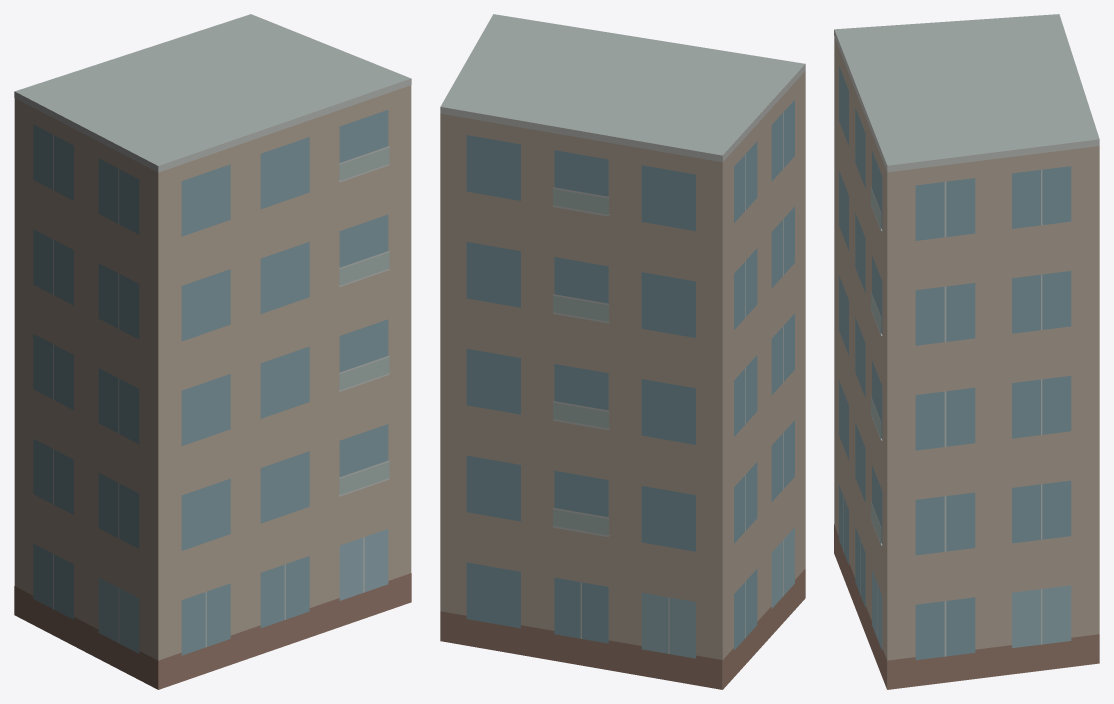
Rendered from survey-upis-32980694.glb.
3 renders of one model, left to right at view 1: azimuth 30°, elevation 25°; view 2: azimuth 150°, elevation 25°; view 3: azimuth 270°, elevation 25°, orthographic. The views are drawn at different scales.
Parts seen in each view (by area): view 1: survey-upis-32980694.tmp; view 2: survey-upis-32980694.tmp; view 3: survey-upis-32980694.tmp.
Part boxes in pixels (x1,y1,x2,y2): survey-upis-32980694.tmp: [14, 14, 411, 689]; survey-upis-32980694.tmp: [440, 14, 805, 689]; survey-upis-32980694.tmp: [834, 14, 1099, 689].
Bounding box in the file's own units: 12 × 19.3 × 8.87.
